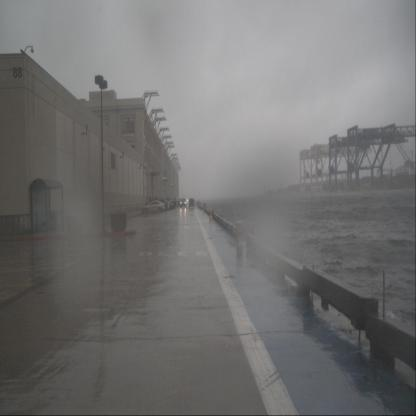vehicle-car: (143, 200, 166, 214), (157, 199, 174, 210), (154, 199, 170, 210), (180, 198, 187, 208), (188, 198, 194, 208)
